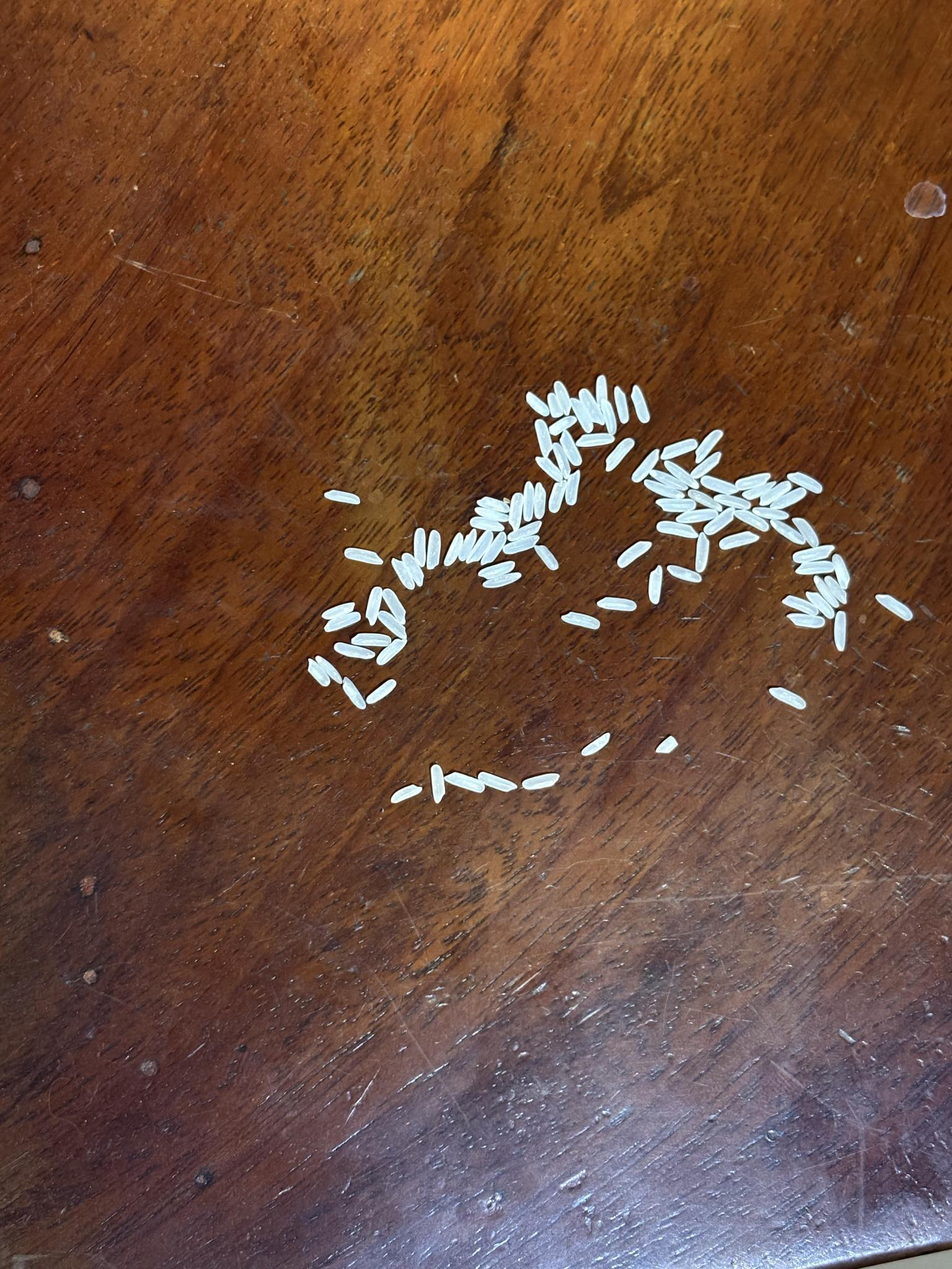Rice-th-y-nh: (664, 461, 699, 489), (606, 439, 635, 471), (876, 595, 913, 620), (695, 429, 723, 462), (616, 541, 651, 567), (580, 389, 605, 425), (467, 531, 493, 564), (770, 520, 804, 545), (632, 451, 659, 482), (704, 508, 735, 535), (690, 452, 722, 478), (446, 772, 485, 793), (378, 611, 407, 639), (813, 576, 839, 607), (384, 589, 406, 625), (769, 687, 805, 709), (760, 481, 791, 506), (482, 532, 506, 564), (644, 480, 684, 499), (478, 772, 516, 792), (794, 518, 820, 547), (377, 639, 406, 665), (367, 679, 397, 704), (788, 472, 822, 494), (571, 399, 593, 433), (342, 678, 366, 709), (324, 612, 361, 632), (771, 488, 806, 509), (806, 592, 834, 618), (316, 656, 342, 684), (651, 470, 687, 490), (735, 510, 769, 531), (561, 431, 582, 465), (784, 595, 818, 616), (631, 386, 650, 423), (719, 531, 758, 549), (657, 521, 698, 538), (794, 545, 835, 562), (688, 490, 721, 511), (392, 559, 414, 590), (663, 439, 697, 459), (403, 553, 424, 585), (335, 643, 374, 660), (509, 521, 542, 541), (536, 456, 562, 481), (504, 536, 540, 554), (562, 612, 600, 629), (366, 587, 383, 625), (552, 444, 571, 477), (345, 548, 384, 564), (677, 508, 716, 524), (582, 734, 610, 756), (308, 659, 330, 687), (701, 476, 735, 494), (535, 420, 552, 456), (832, 555, 850, 589), (523, 773, 559, 790), (459, 529, 478, 561), (479, 561, 514, 578), (668, 565, 701, 583), (825, 576, 847, 603), (715, 494, 752, 510), (430, 765, 446, 802), (483, 573, 522, 588), (657, 498, 696, 513), (445, 534, 463, 566), (743, 482, 773, 501), (648, 566, 663, 604), (597, 597, 637, 611), (735, 473, 770, 489), (390, 785, 421, 803), (535, 546, 558, 570), (526, 392, 549, 416), (477, 496, 509, 513), (322, 603, 355, 619), (549, 482, 566, 513), (614, 387, 629, 422), (550, 416, 576, 436), (788, 614, 825, 628), (509, 493, 523, 530), (554, 382, 571, 412), (696, 534, 709, 573), (351, 633, 390, 646), (427, 531, 441, 567), (470, 517, 503, 532), (413, 528, 426, 565), (834, 612, 846, 652), (566, 471, 580, 505), (577, 433, 613, 446), (533, 483, 546, 519), (754, 507, 789, 520), (325, 490, 360, 503), (602, 402, 616, 434), (475, 507, 505, 521), (796, 563, 834, 574), (523, 482, 534, 519), (656, 736, 677, 753), (547, 394, 562, 417), (596, 376, 607, 402)
